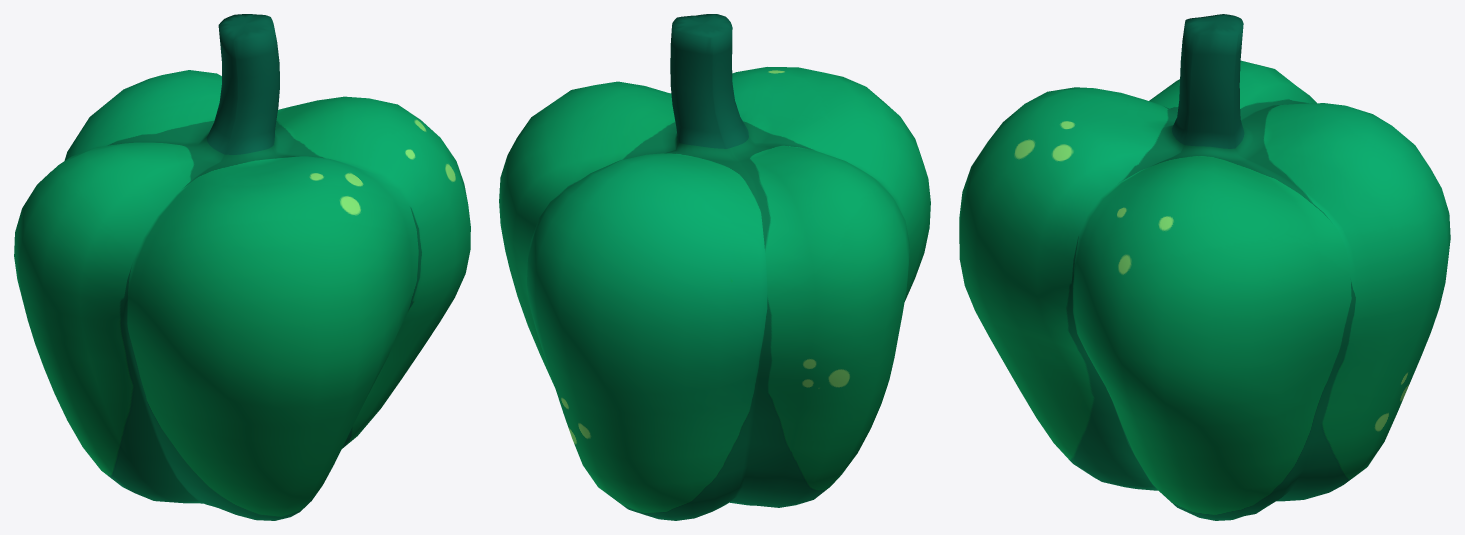
Rendered from pepperWhole3_-_resized.fbx.
3 renders of one model, left to right at view 1: azimuth 30°, elevation 25°; view 2: azimuth 150°, elevation 25°; view 3: azimuth 270°, elevation 25°, orthographic. The views are drawn at different scales.
Parts seen in each view (by area): view 1: pepperWhole; view 2: pepperWhole; view 3: pepperWhole.
Boxes of the visible parts, bbox=[...] form: pepperWhole: bbox=[14, 14, 470, 520]; pepperWhole: bbox=[499, 14, 930, 520]; pepperWhole: bbox=[959, 14, 1450, 520].
Size of the model in its own units: 105 by 115 by 107.
Materials: 1 (1 with a texture image).
